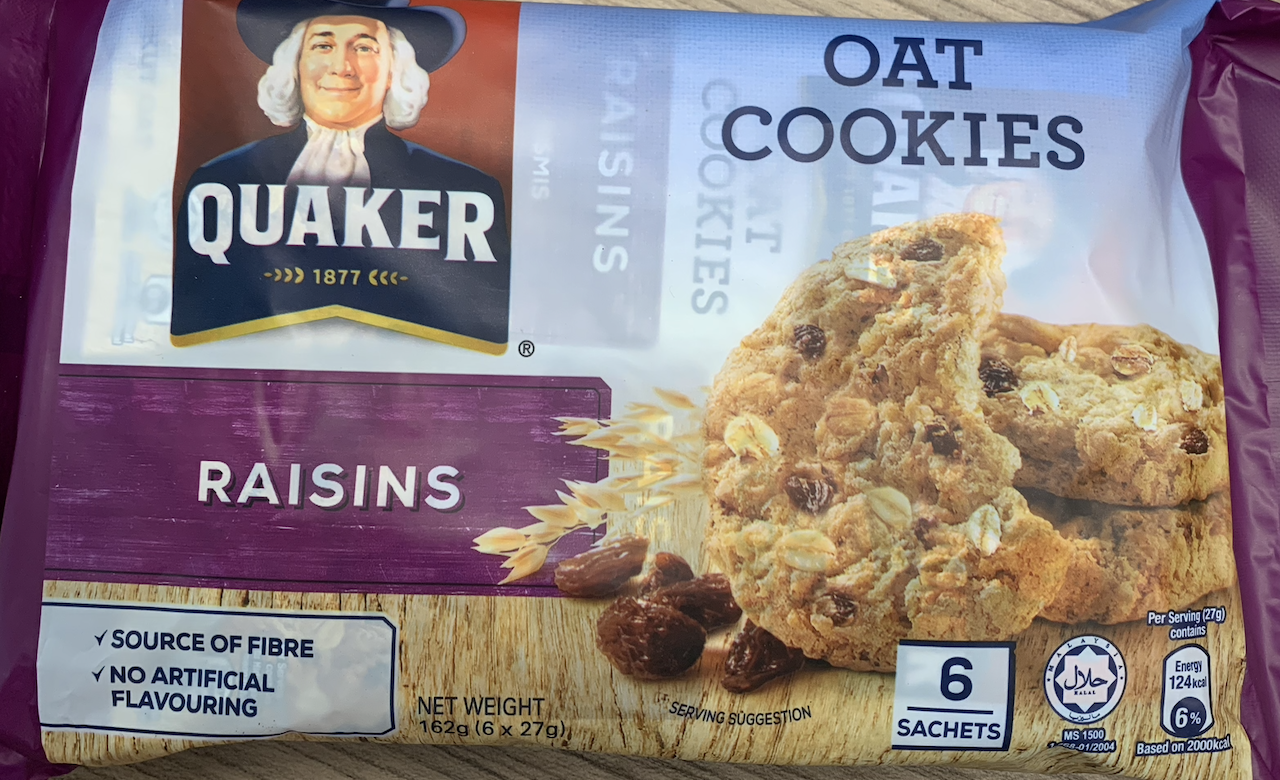cookies_150g: (42, 25, 1223, 735)
